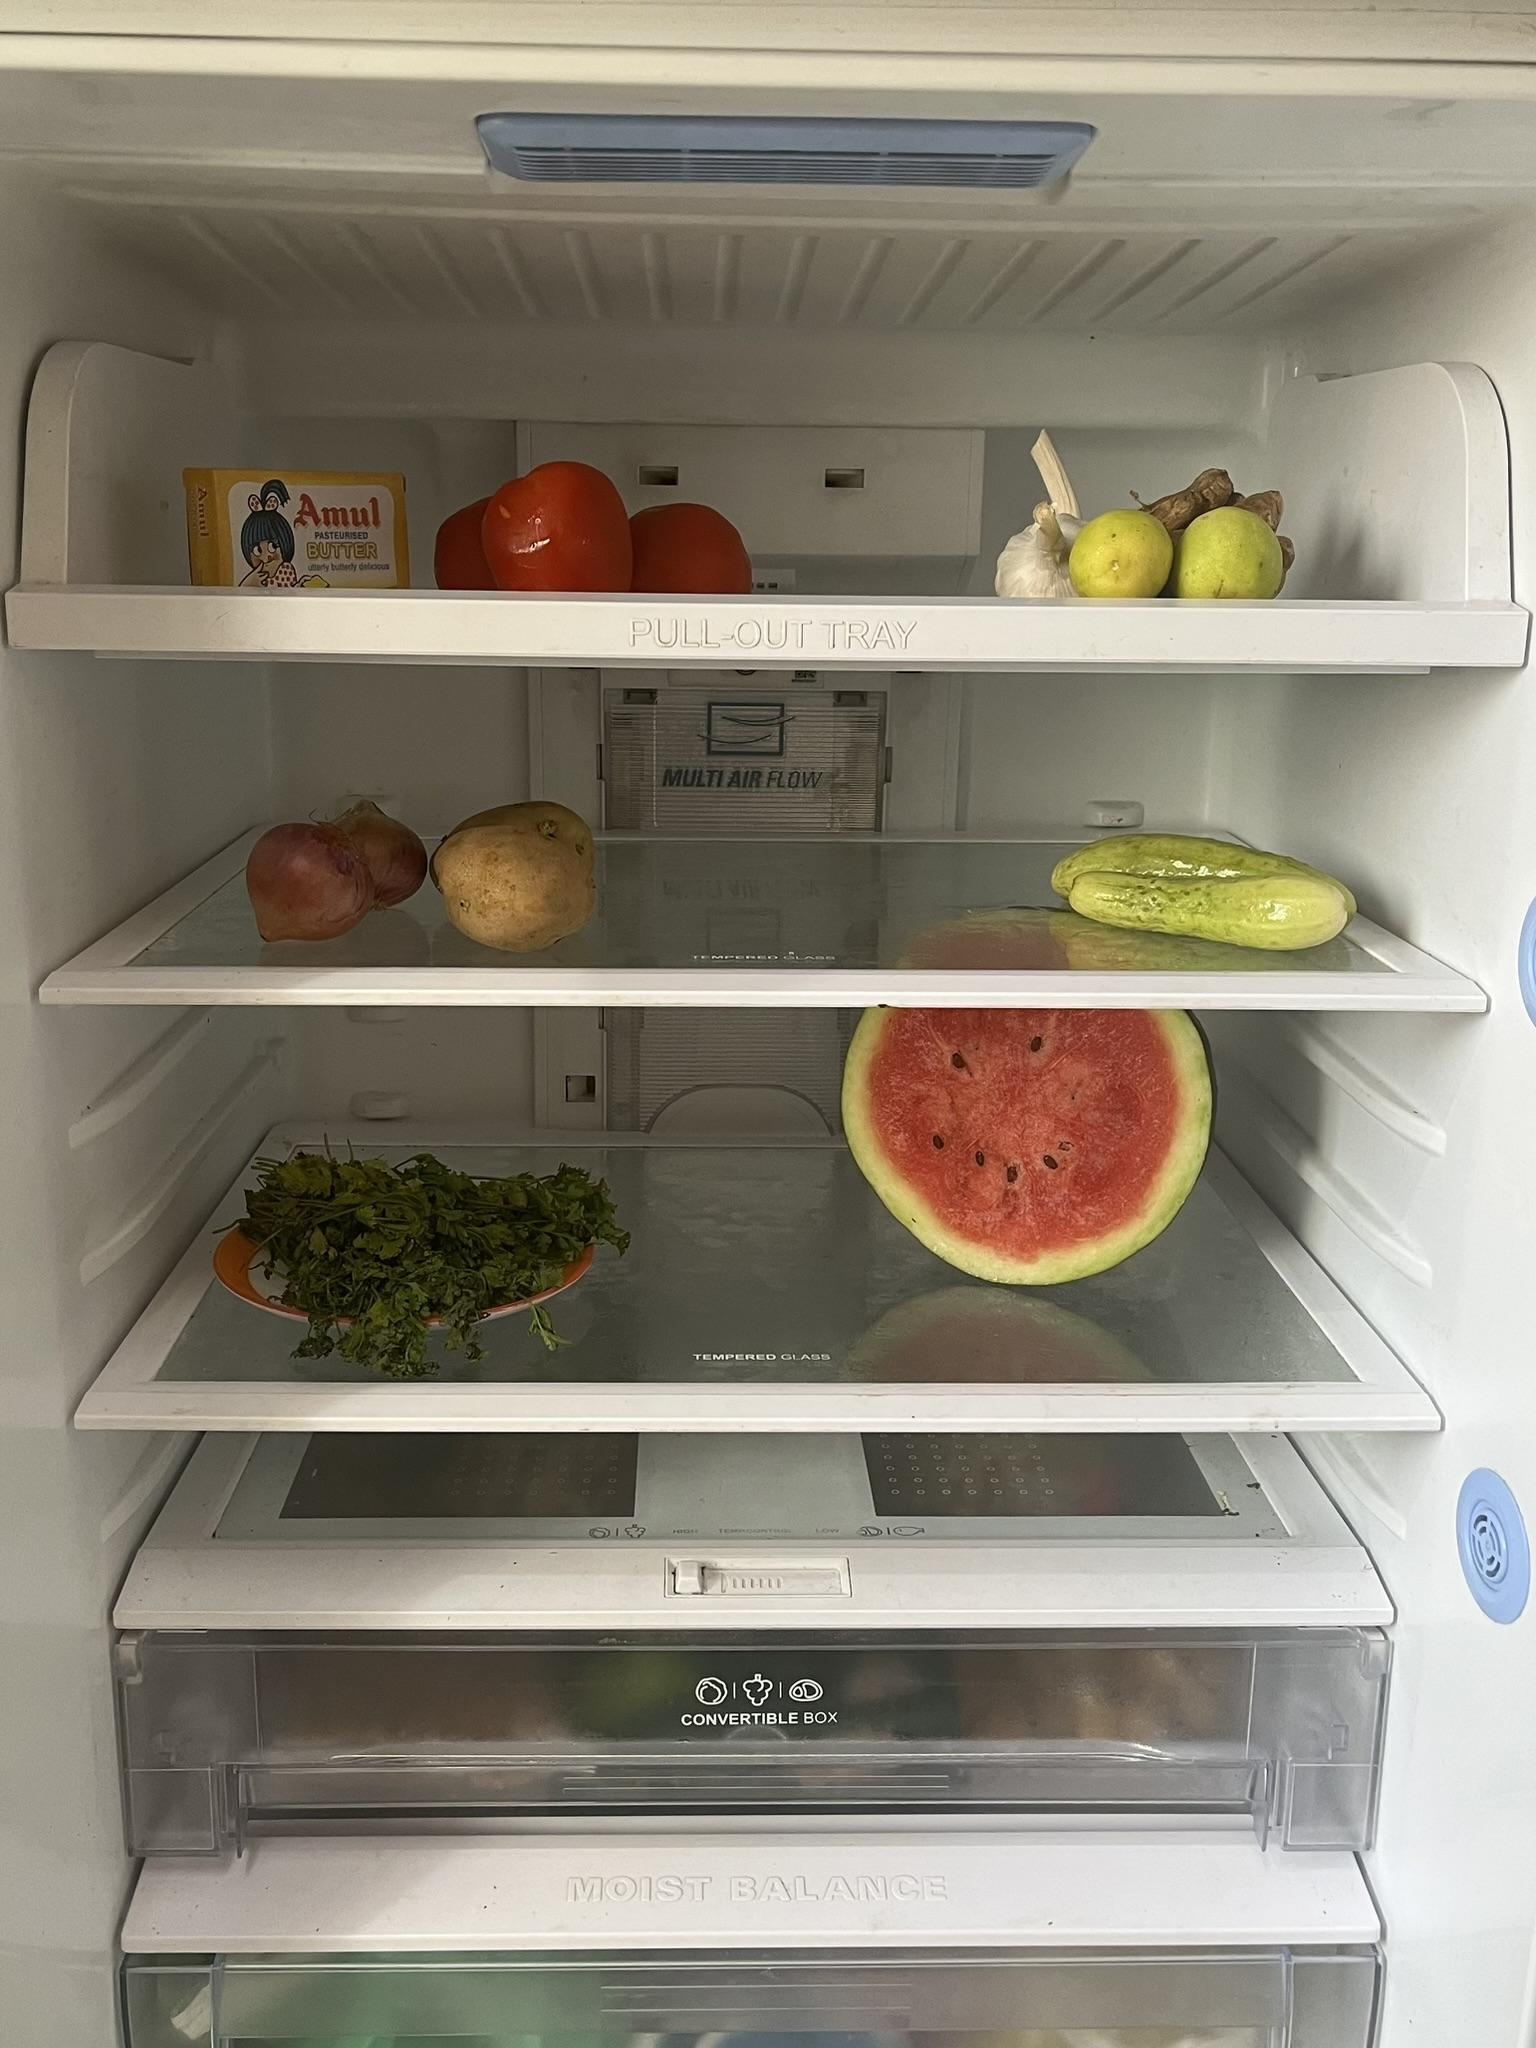butter: (176, 456, 410, 590)
coriander: (240, 1147, 603, 1356)
cucumber: (1037, 834, 1367, 943)
garlic: (1000, 427, 1091, 590)
lemon: (1079, 506, 1291, 600)
onion: (247, 797, 426, 937)
potato: (434, 803, 600, 953)
tomato: (434, 469, 760, 590)
watermelon: (841, 924, 1220, 1297)
